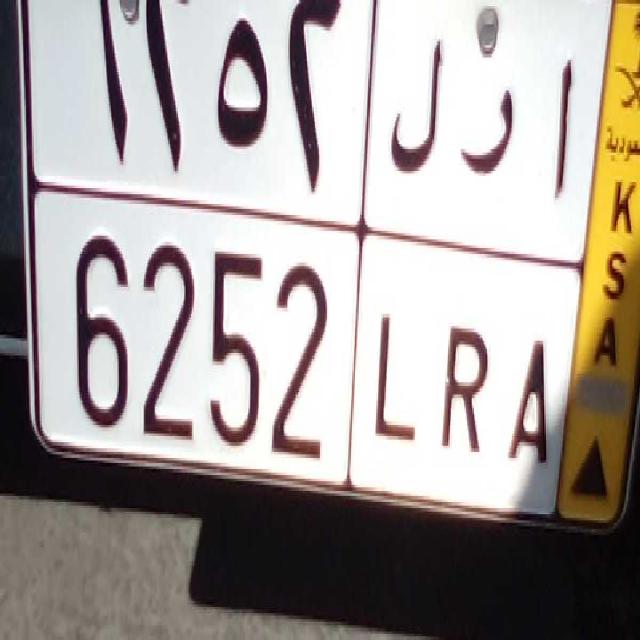license_plate: (45, 183, 560, 523)
